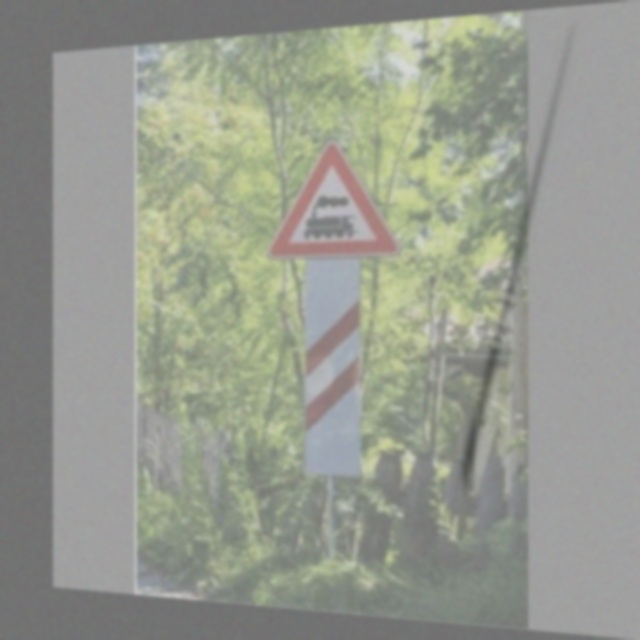Unguarded_Level_Crossing: (263, 129, 403, 262)
